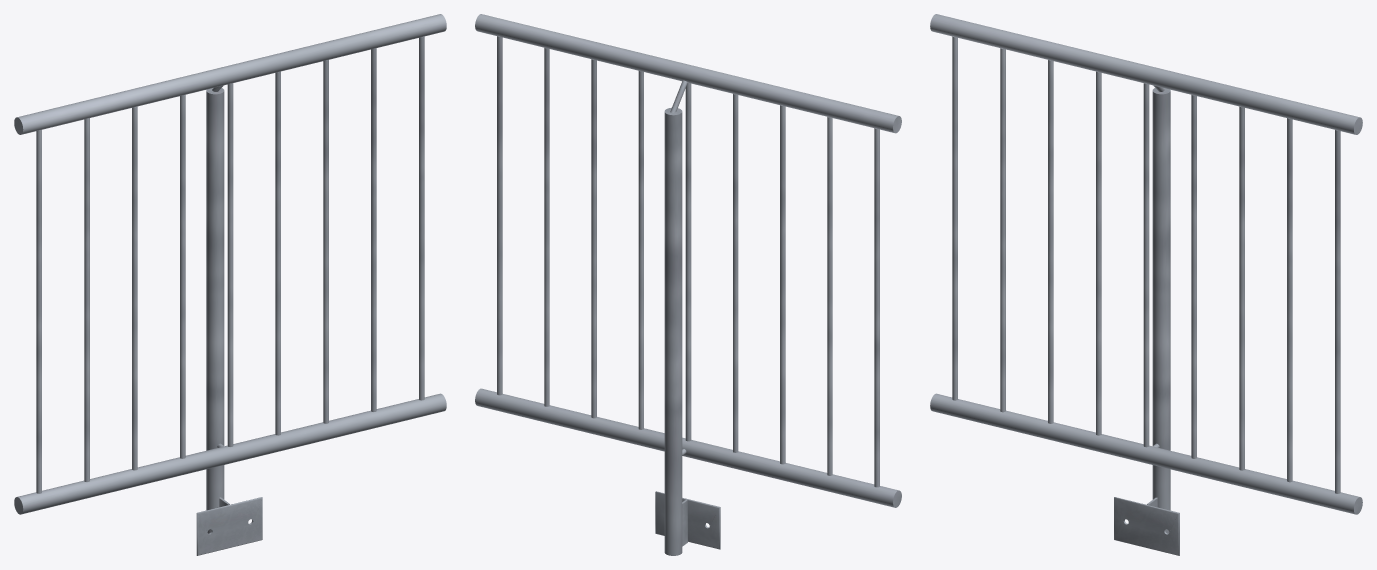
File: gelaender-125.gltf
3 views of the same model, side by side, from view 1: azimuth 30°, elevation 25°; view 2: azimuth 150°, elevation 25°; view 3: azimuth 330°, elevation 25° (orthographic).
Parts seen in each view (by area): view 1: SK1527_Geländer-125.001; view 2: SK1527_Geländer-125.001; view 3: SK1527_Geländer-125.001.
Part boxes in pixels (x1=…): SK1527_Geländer-125.001: x1=14, y1=14, x2=446, y2=555; SK1527_Geländer-125.001: x1=475, y1=14, x2=901, y2=555; SK1527_Geländer-125.001: x1=930, y1=14, x2=1362, y2=555.
Bounding box in the file's own units: 1.03 × 1.12 × 0.102.
Materials: 1 (1 with a texture image).
